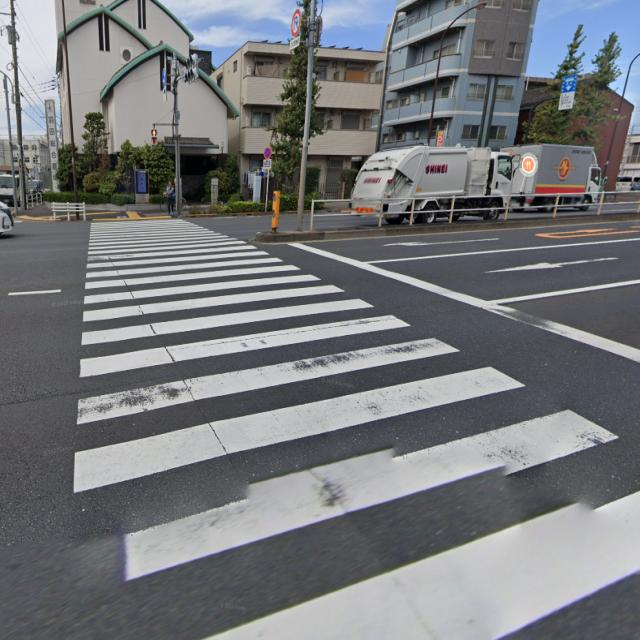traffic-light: (150, 129, 158, 145)
